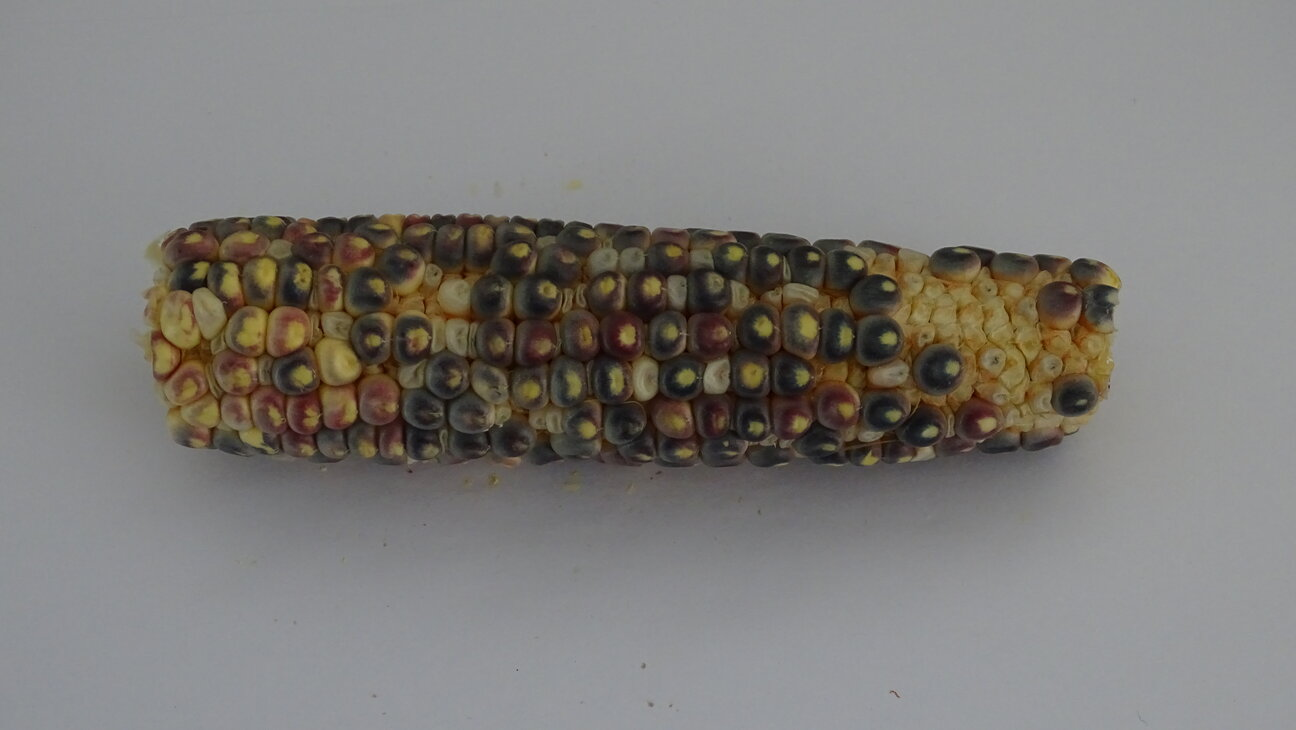ear: (139, 210, 1123, 474)
